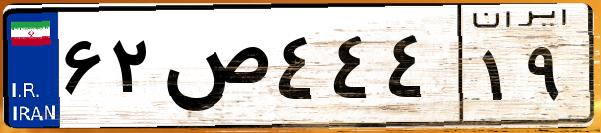1: (475, 38, 525, 113)
2: (110, 28, 158, 98)
4: (270, 28, 330, 110), (385, 28, 445, 110), (330, 28, 385, 110)
6: (57, 26, 110, 100)
9: (525, 38, 570, 115)
ص: (158, 20, 270, 120)
